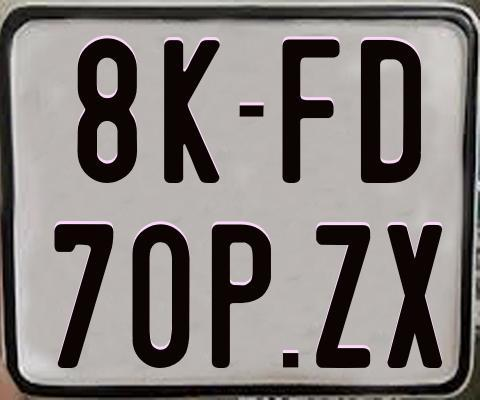0: (131, 221, 189, 366)
7: (51, 221, 115, 365)
8: (74, 38, 137, 187)
D: (359, 40, 419, 186)
F: (281, 36, 341, 180)
K: (163, 38, 219, 184)
P: (212, 224, 274, 372)
X: (386, 224, 447, 367)
Z: (314, 225, 368, 372)
